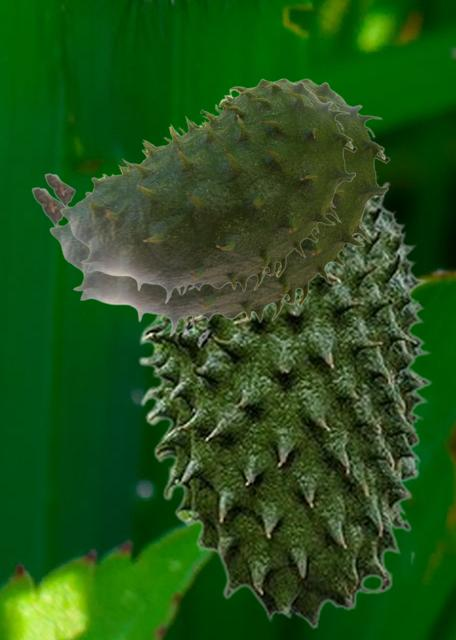guyabano: (134, 174, 432, 628), (31, 78, 389, 336), (44, 78, 356, 303)
